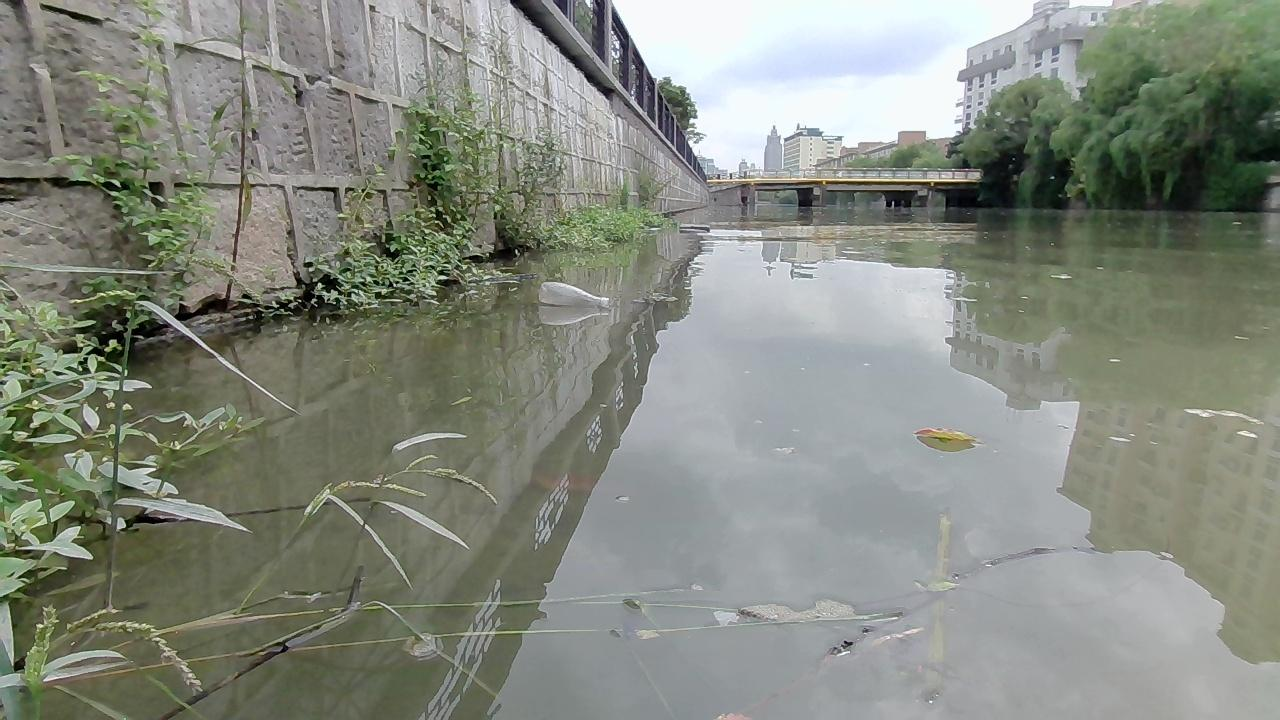bottle: (538, 277, 610, 307)
